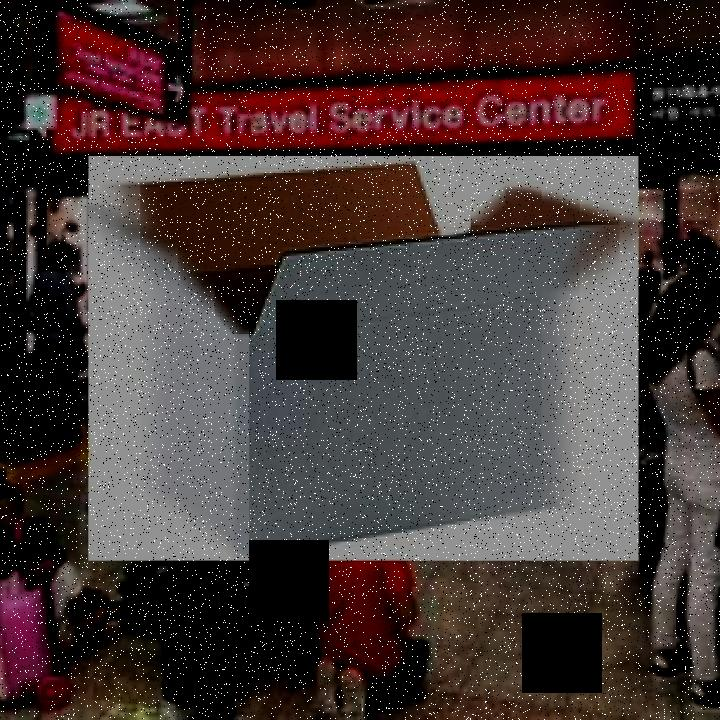box: (80, 150, 649, 568)
